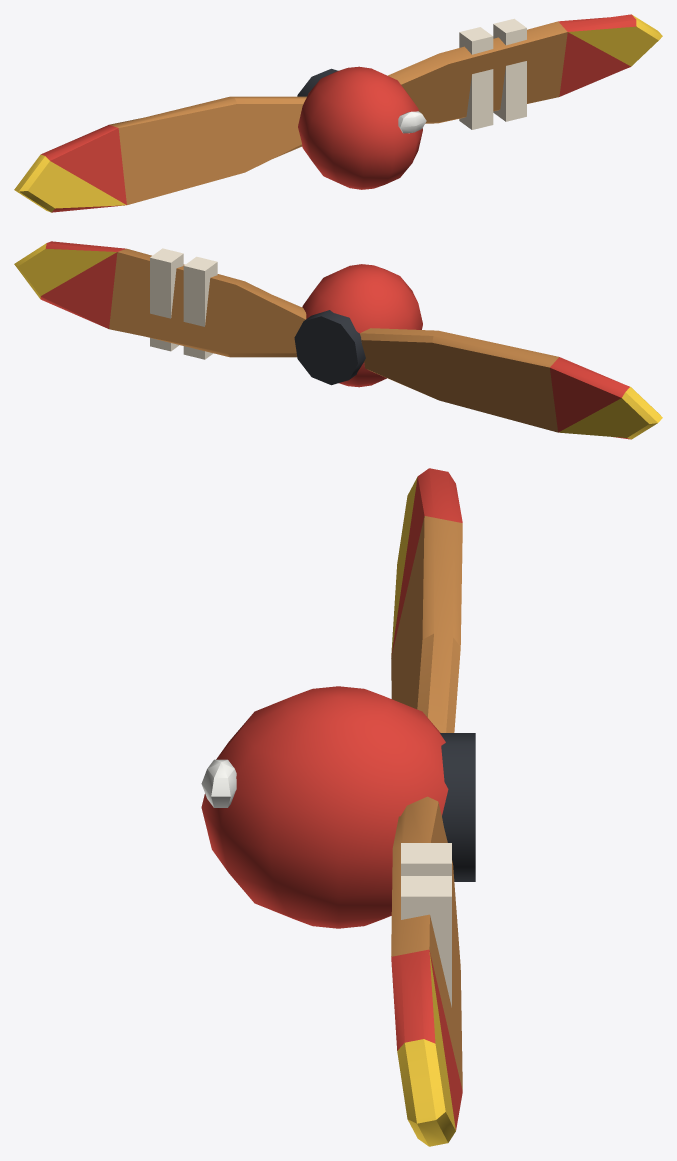
Rendered from HelicePirata.fbx.
The picture shows the model from 3 angles, top to bottom: view 1: azimuth 30°, elevation 25°; view 2: azimuth 150°, elevation 25°; view 3: azimuth 270°, elevation 25°; orthographic projection. The views are drawn at different scales.
Parts seen in each view (by area): view 1: HelicePirata; view 2: HelicePirata; view 3: HelicePirata.
Part boxes in pixels (box(x1,y1,x2,y2)): HelicePirata: box(14, 14, 662, 212); HelicePirata: box(14, 241, 662, 439); HelicePirata: box(201, 468, 475, 1146).
Size of the model in its own units: 7.6 by 1.24 by 1.4.
1 material, 1 textured.
